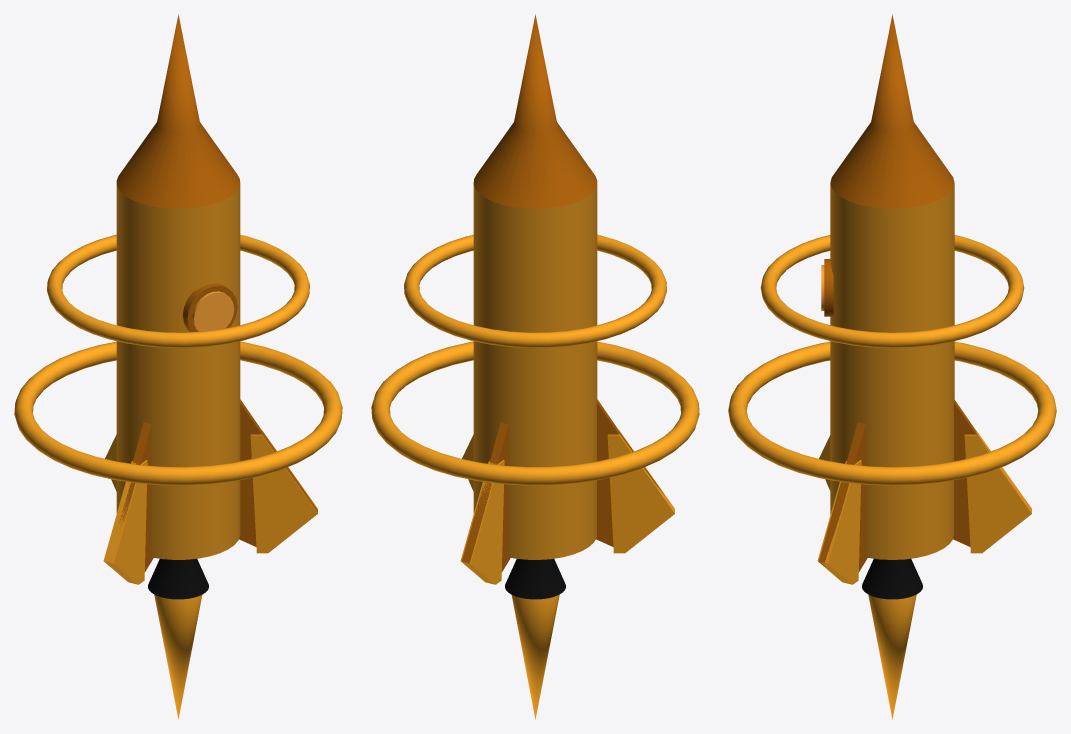
The model's file is Rocket_30_AureateHalo.obj.
3 views of the same model, side by side, from view 1: azimuth 30°, elevation 25°; view 2: azimuth 150°, elevation 25°; view 3: azimuth 270°, elevation 25° (orthographic).
Parts seen in each view (by area): view 1: R30_Body, R30_Halo_1, R30_Nose, R30_Halo_2, R30_FinGlow_3, R30_FinGlow_2, R30_Flame_1, R30_Nozzle_1, R30_Fin_3, R30_Window_1, R30_Fin_2, R30_WindowFrame_1; view 2: R30_Body, R30_Halo_1, R30_Nose, R30_Halo_2, R30_FinGlow_2, R30_Flame_1, R30_FinGlow_1, R30_Nozzle_1, R30_Fin_1, R30_Fin_2; view 3: R30_Body, R30_Halo_1, R30_Nose, R30_Halo_2, R30_FinGlow_1, R30_Flame_1, R30_FinGlow_3, R30_Nozzle_1, R30_Fin_3, R30_Fin_1, R30_WindowFrame_1.
Part boxes in pixels (x1=…): R30_Body: x1=116, y1=184, x2=240, y2=559; R30_Halo_1: x1=14, y1=341, x2=342, y2=485; R30_Nose: x1=116, y1=14, x2=240, y2=208; R30_Halo_2: x1=47, y1=234, x2=309, y2=347; R30_FinGlow_3: x1=250, y1=430, x2=317, y2=553; R30_FinGlow_2: x1=103, y1=460, x2=147, y2=584; R30_Flame_1: x1=154, y1=594, x2=202, y2=719; R30_Nozzle_1: x1=148, y1=559, x2=208, y2=599; R30_Fin_3: x1=239, y1=399, x2=317, y2=546; R30_Window_1: x1=192, y1=291, x2=234, y2=331; R30_Fin_2: x1=119, y1=422, x2=153, y2=572; R30_WindowFrame_1: x1=182, y1=283, x2=237, y2=332; R30_Body: x1=473, y1=184, x2=597, y2=559; R30_Halo_1: x1=371, y1=341, x2=699, y2=485; R30_Nose: x1=473, y1=14, x2=597, y2=208; R30_Halo_2: x1=404, y1=234, x2=666, y2=347; R30_FinGlow_2: x1=607, y1=430, x2=674, y2=553; R30_Flame_1: x1=511, y1=594, x2=559, y2=719; R30_FinGlow_1: x1=460, y1=460, x2=504, y2=584; R30_Nozzle_1: x1=505, y1=559, x2=565, y2=599; R30_Fin_1: x1=462, y1=422, x2=510, y2=572; R30_Fin_2: x1=596, y1=399, x2=664, y2=546; R30_Body: x1=830, y1=183, x2=954, y2=559; R30_Halo_1: x1=728, y1=341, x2=1056, y2=485; R30_Nose: x1=830, y1=14, x2=954, y2=208; R30_Halo_2: x1=760, y1=235, x2=1024, y2=347; R30_FinGlow_1: x1=964, y1=430, x2=1031, y2=553; R30_Flame_1: x1=868, y1=594, x2=916, y2=719; R30_FinGlow_3: x1=817, y1=460, x2=861, y2=584; R30_Nozzle_1: x1=862, y1=558, x2=922, y2=599; R30_Fin_3: x1=818, y1=422, x2=867, y2=572; R30_Fin_1: x1=953, y1=400, x2=1031, y2=546; R30_WindowFrame_1: x1=824, y1=259, x2=833, y2=316.
Size of the model in its own units: 4.24 by 10.05 by 4.24.
